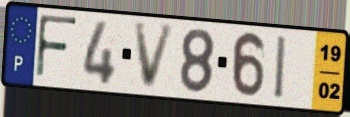4: (81, 19, 118, 87)
6: (230, 29, 267, 101)
8: (179, 26, 217, 95)
F: (33, 12, 80, 82)
I: (273, 33, 289, 102)
V: (132, 22, 178, 92)
